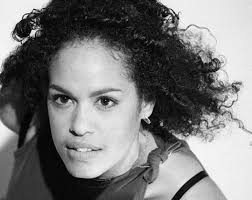black_female: (25, 7, 177, 186)
